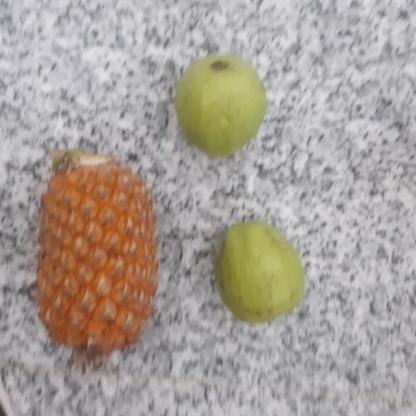guava: (169, 54, 271, 157), (208, 224, 307, 323)
